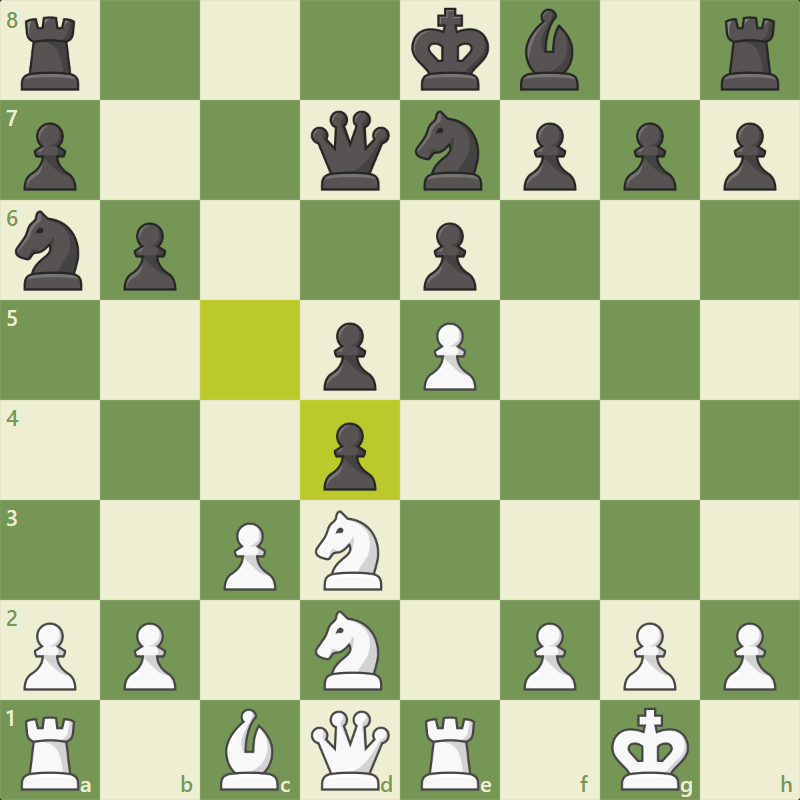B: (218, 707, 281, 794)
K: (608, 705, 691, 794)
N: (313, 508, 387, 594), (313, 608, 386, 694)
P: (419, 320, 481, 394), (20, 620, 80, 694), (118, 620, 178, 694), (217, 520, 277, 594), (518, 619, 578, 693), (619, 619, 679, 693), (719, 620, 779, 694)
Q: (308, 708, 392, 794)
R: (18, 714, 83, 795), (418, 714, 482, 794)
b: (516, 7, 582, 93)
k: (408, 3, 492, 95)
n: (11, 208, 86, 295), (412, 109, 486, 194)
p: (320, 320, 379, 394), (321, 421, 379, 494), (421, 220, 479, 293), (520, 121, 578, 194), (620, 121, 678, 194), (720, 120, 778, 193), (120, 220, 178, 293), (20, 122, 78, 195)
q: (308, 107, 392, 194)
r: (717, 14, 785, 95), (17, 13, 83, 95)
